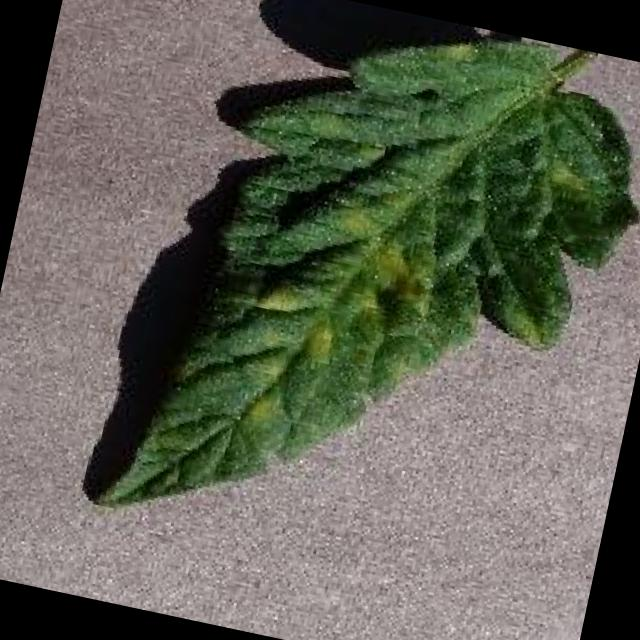leaf mold: (93, 33, 640, 504)
